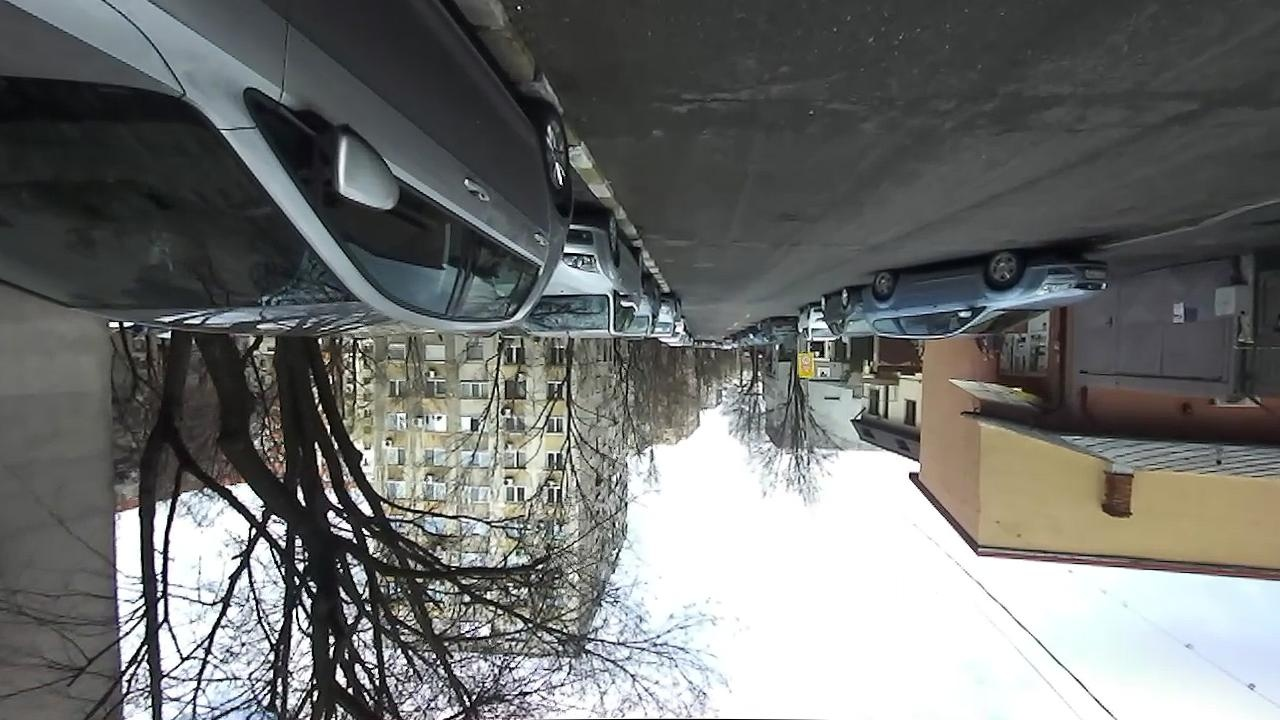pothole: (671, 87, 768, 112), (781, 210, 806, 224)
